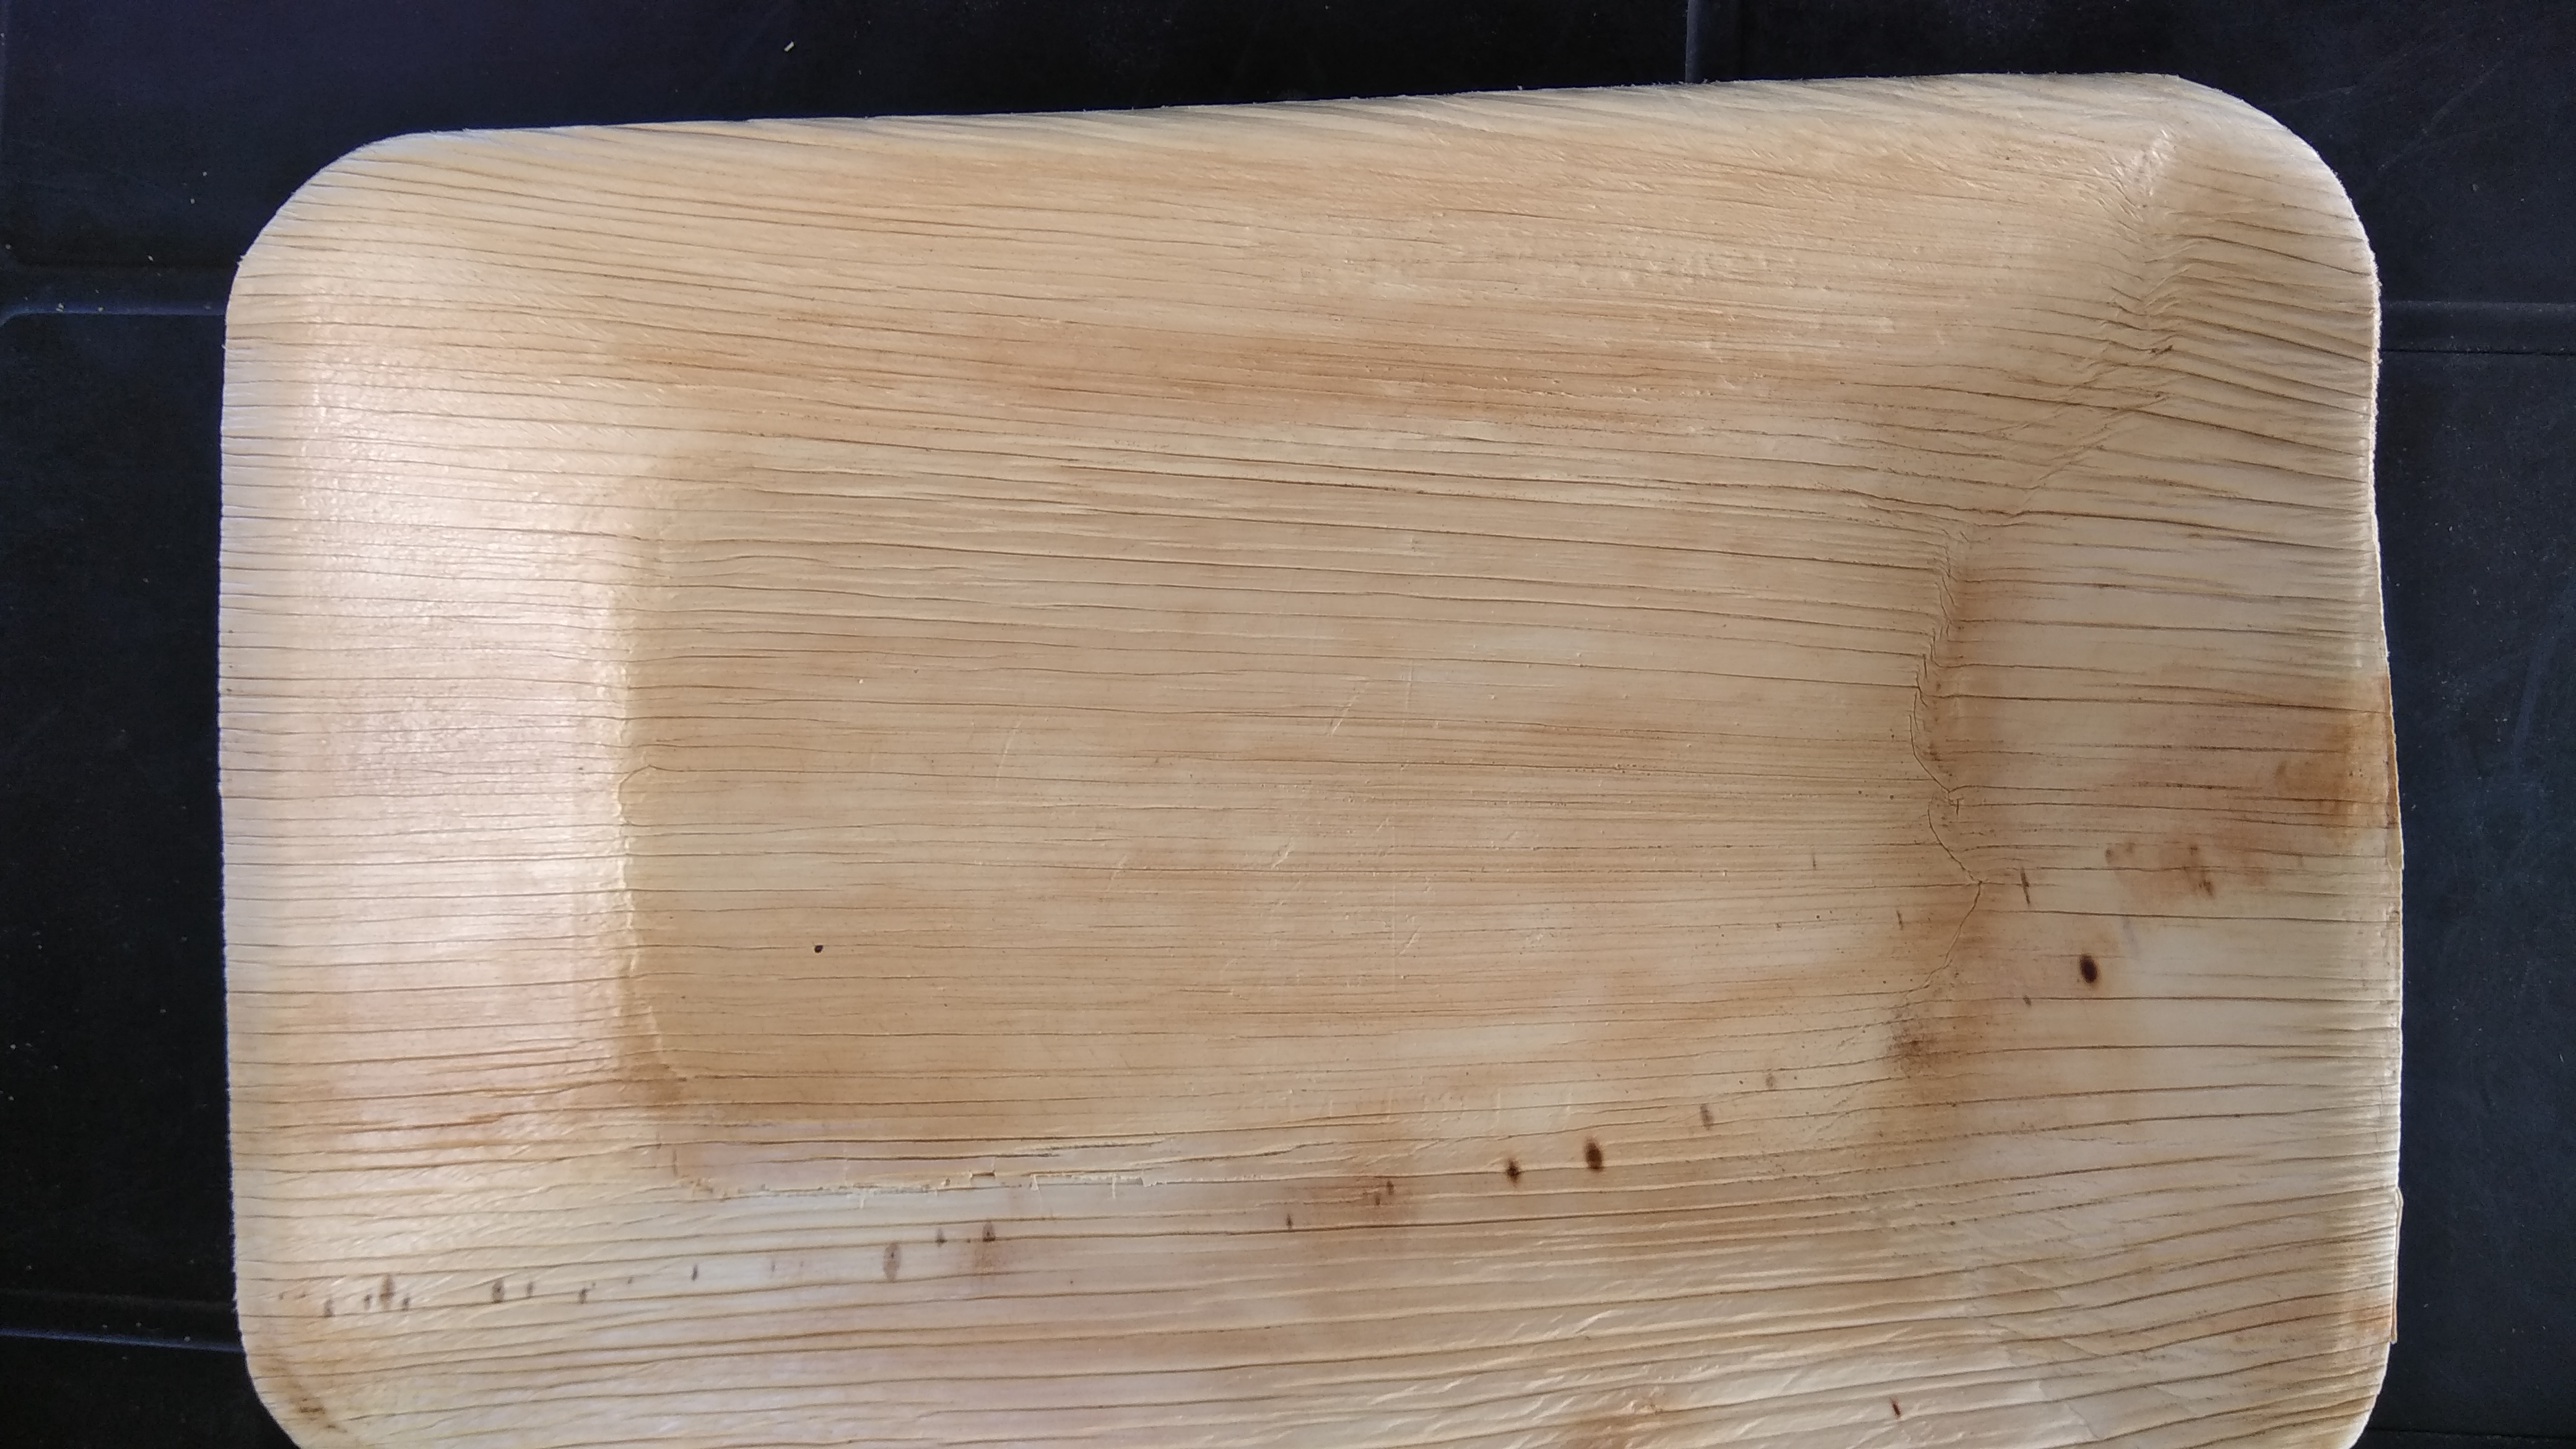areca plate: (225, 126, 2392, 1444)
